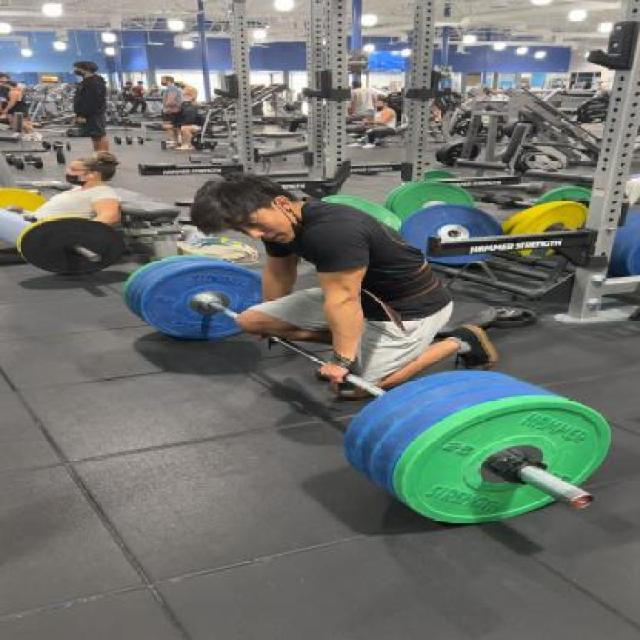barbell: (376, 391, 625, 537)
